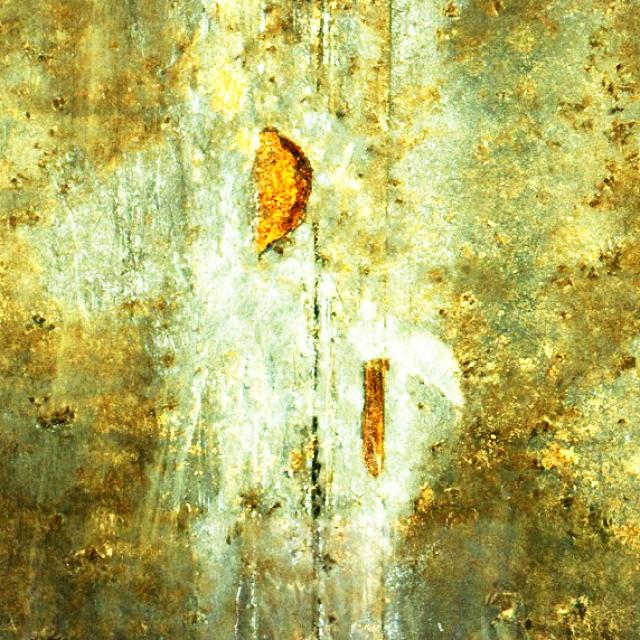Corrosion: (255, 128, 314, 257), (360, 357, 387, 479)
